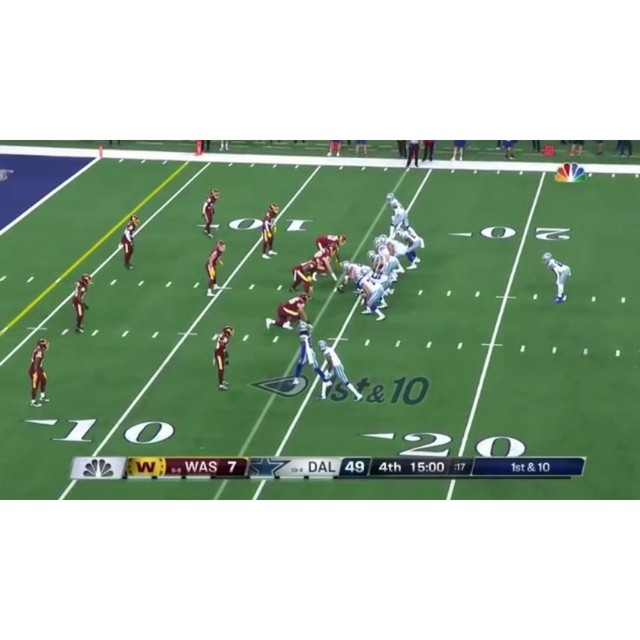american-football-player: (292, 322, 332, 394), (317, 340, 363, 402), (265, 293, 311, 332), (354, 274, 389, 321), (541, 252, 571, 303), (27, 339, 49, 406), (212, 325, 234, 391), (396, 224, 425, 270), (71, 274, 93, 333), (378, 234, 410, 274), (336, 259, 372, 294), (204, 240, 226, 296), (290, 257, 321, 296), (120, 215, 141, 270), (311, 243, 340, 282), (386, 192, 411, 235), (260, 203, 279, 259), (315, 233, 346, 267), (202, 188, 220, 237)
